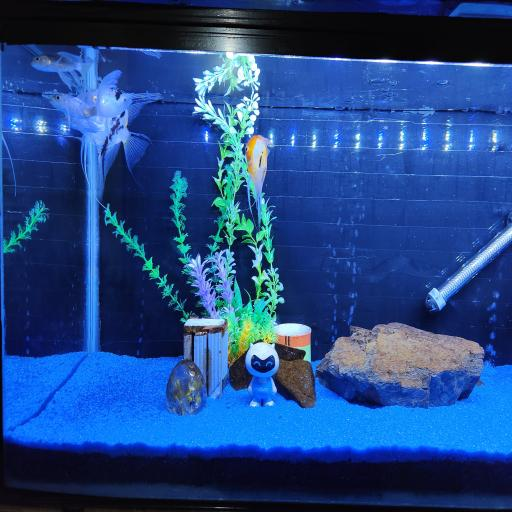Fish: (97, 94, 162, 199), (88, 70, 162, 117), (32, 52, 92, 90), (246, 135, 271, 225), (96, 70, 132, 117), (50, 93, 97, 118)
